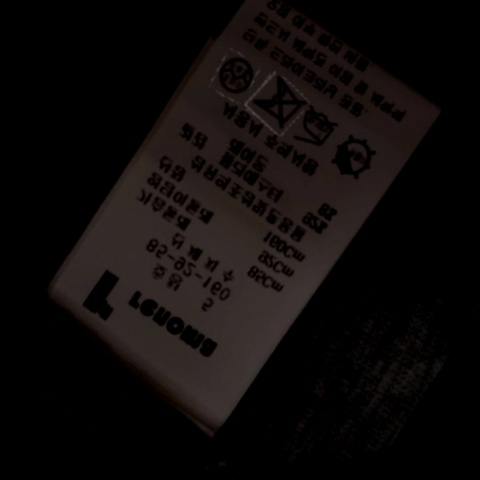DN_wash: (244, 74, 309, 132)
dry_clean_petrol_only: (208, 49, 260, 99)
iron_low: (288, 102, 346, 155)
line_dry_in_shade: (319, 131, 381, 186)
